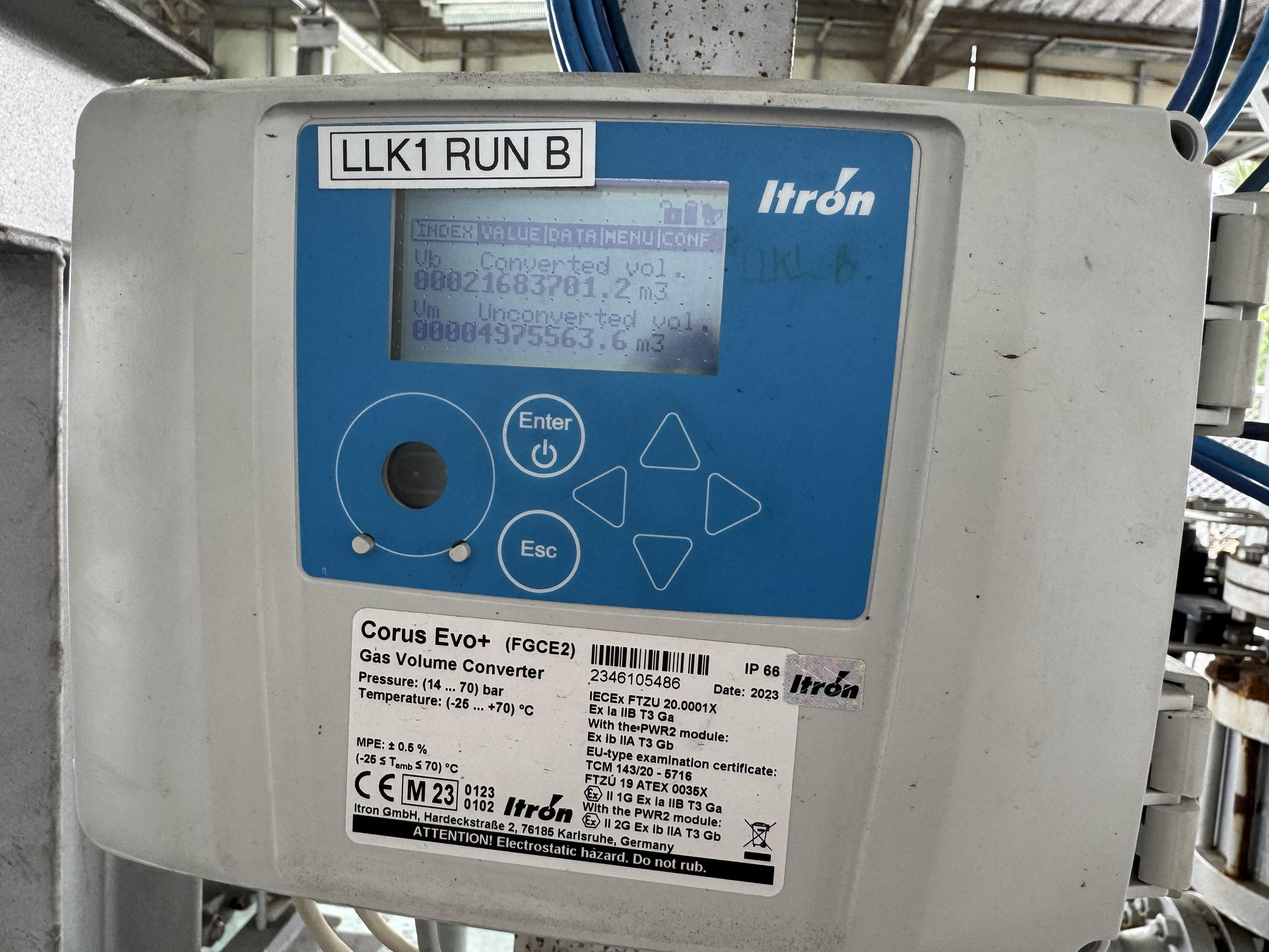digital_screen: (390, 176, 729, 376)
